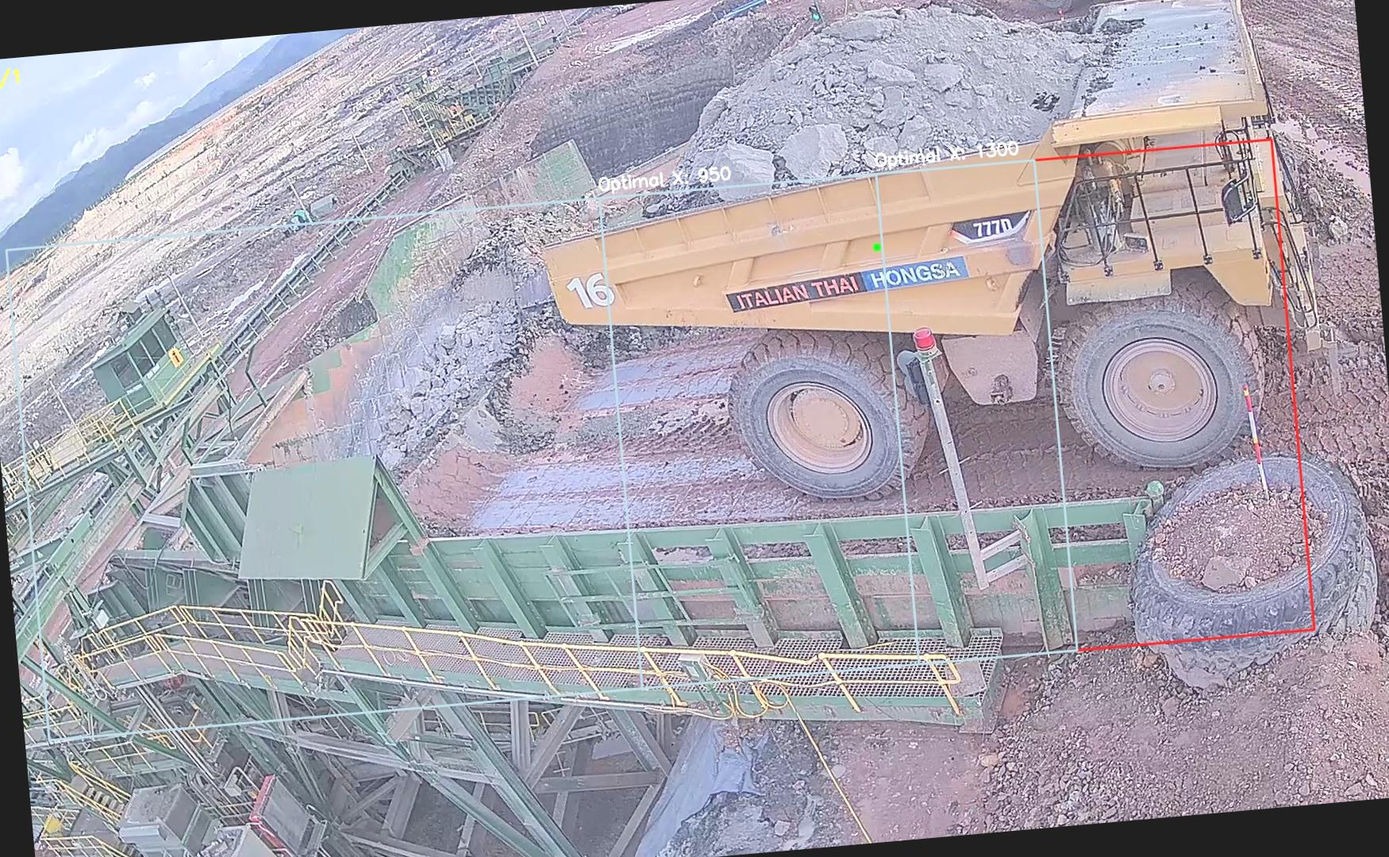company: (718, 253, 988, 316)
full_load: (666, 0, 1067, 209)
mining_truck: (513, 0, 1356, 533)
tail_number: (553, 261, 621, 320)
truck_size: (947, 205, 1037, 244)
